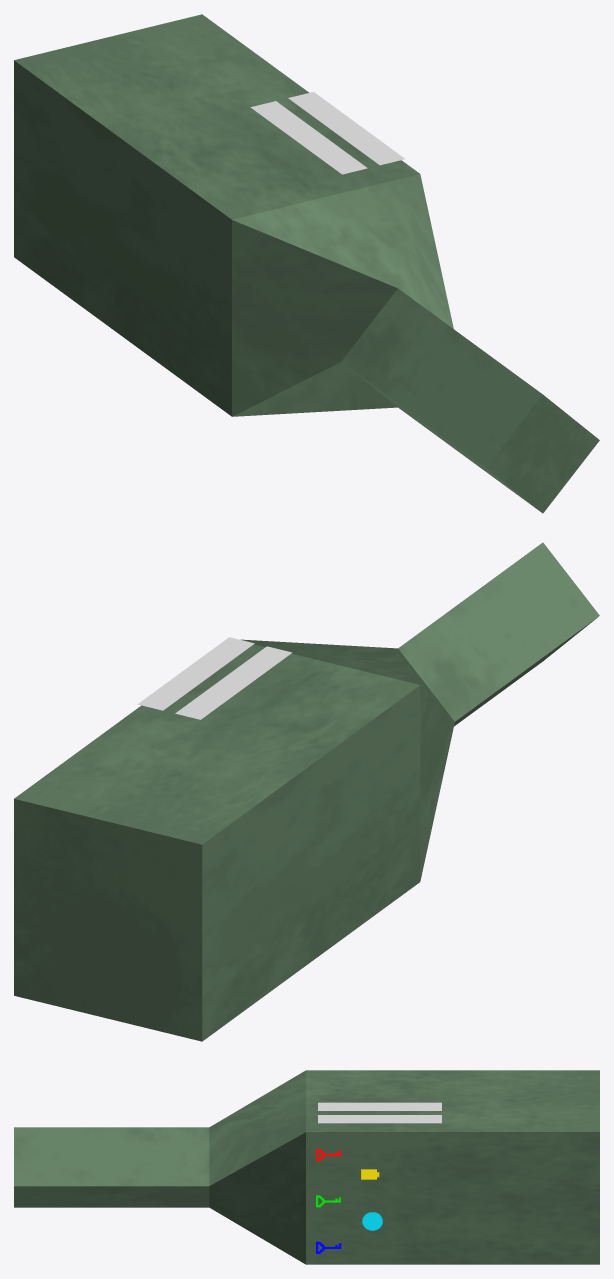
The model's file is player_gun.glb.
The picture shows the model from 3 angles, top to bottom: view 1: azimuth 30°, elevation 25°; view 2: azimuth 150°, elevation 25°; view 3: azimuth 270°, elevation 25°; orthographic projection. The views are drawn at different scales.
Visible parts, largest first — view 1: Cube, Plane, Plane.001; view 2: Cube, Plane, Plane.001; view 3: Cube, Plane, Plane.001, Powerup1.
Boxes of the visible parts, x1,y1,x2,y2 form: Cube: (14, 14, 599, 513); Plane: (288, 92, 405, 165); Plane.001: (250, 101, 367, 174); Cube: (14, 542, 599, 1041); Plane: (137, 637, 254, 710); Plane.001: (175, 646, 292, 719); Cube: (14, 1070, 599, 1264); Plane: (318, 1115, 441, 1123); Plane.001: (318, 1102, 441, 1110); Powerup1: (362, 1212, 382, 1230).
Bounding box in the file's own units: 2.1 × 2.1 × 8.
Materials: 6 (6 with a texture image).
